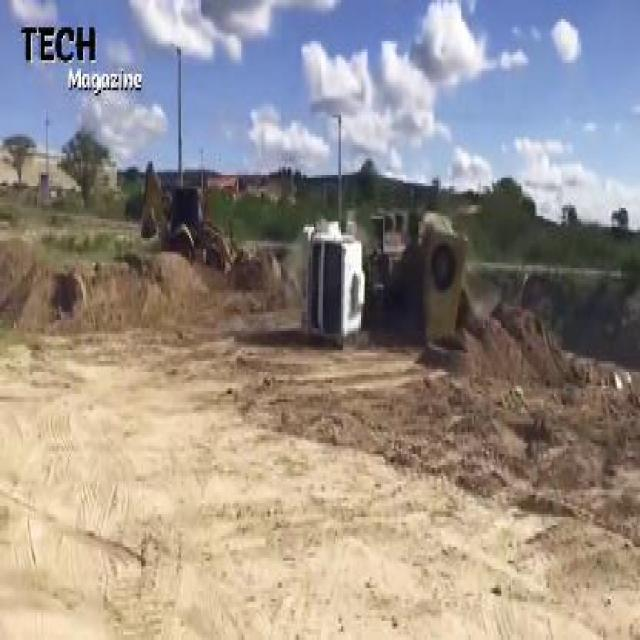accident: (302, 197, 470, 355)
